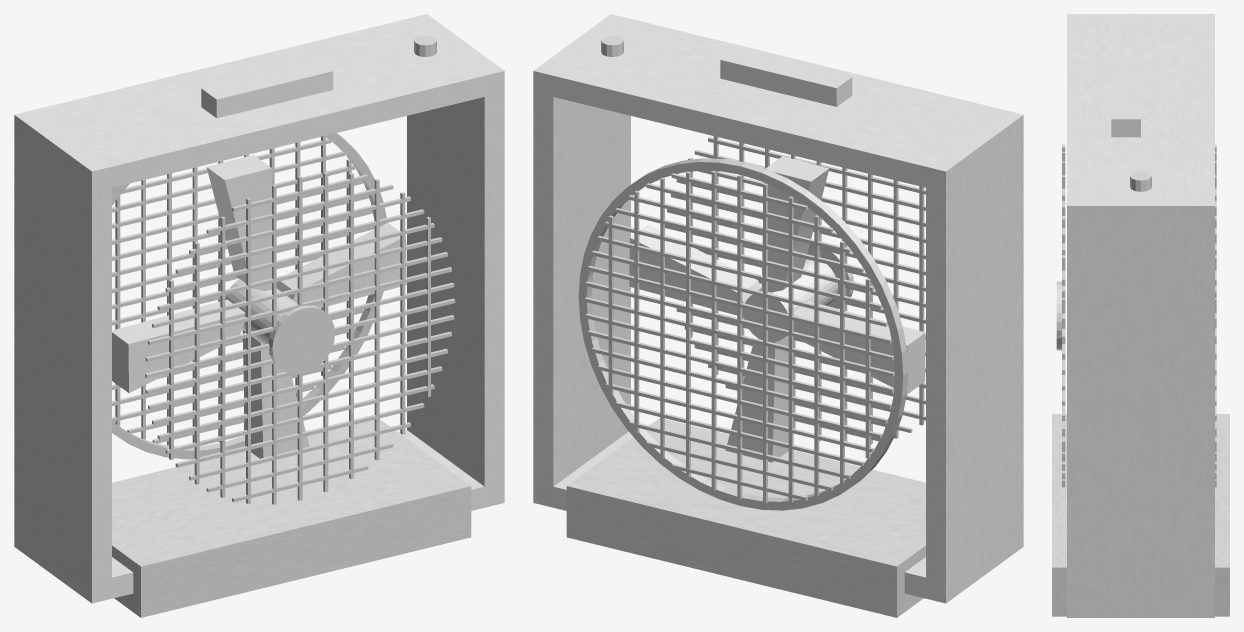
File: compactboxfan.obj
3 views of the same model, side by side, from view 1: azimuth 30°, elevation 25°; view 2: azimuth 150°, elevation 25°; view 3: azimuth 270°, elevation 25° (orthographic). The views are drawn at different scales.
Parts seen in each view (by area): view 1: Case, Trim, Black, Rotor; view 2: Case, Trim, Black, Rotor; view 3: Case, Black, Trim.
Boxes of the visible parts, x1,y1,x2,y2 form: Case: [14, 14, 504, 603]; Trim: [112, 133, 455, 504]; Black: [112, 35, 471, 617]; Rotor: [112, 155, 406, 458]; Case: [533, 14, 1023, 603]; Trim: [578, 136, 925, 510]; Black: [566, 35, 925, 617]; Rotor: [629, 156, 925, 462]; Case: [1067, 14, 1214, 617]; Black: [1052, 171, 1229, 616]; Trim: [1062, 144, 1216, 487].
Size of the model in its own units: 0.5888 by 0.64 by 0.2304.
